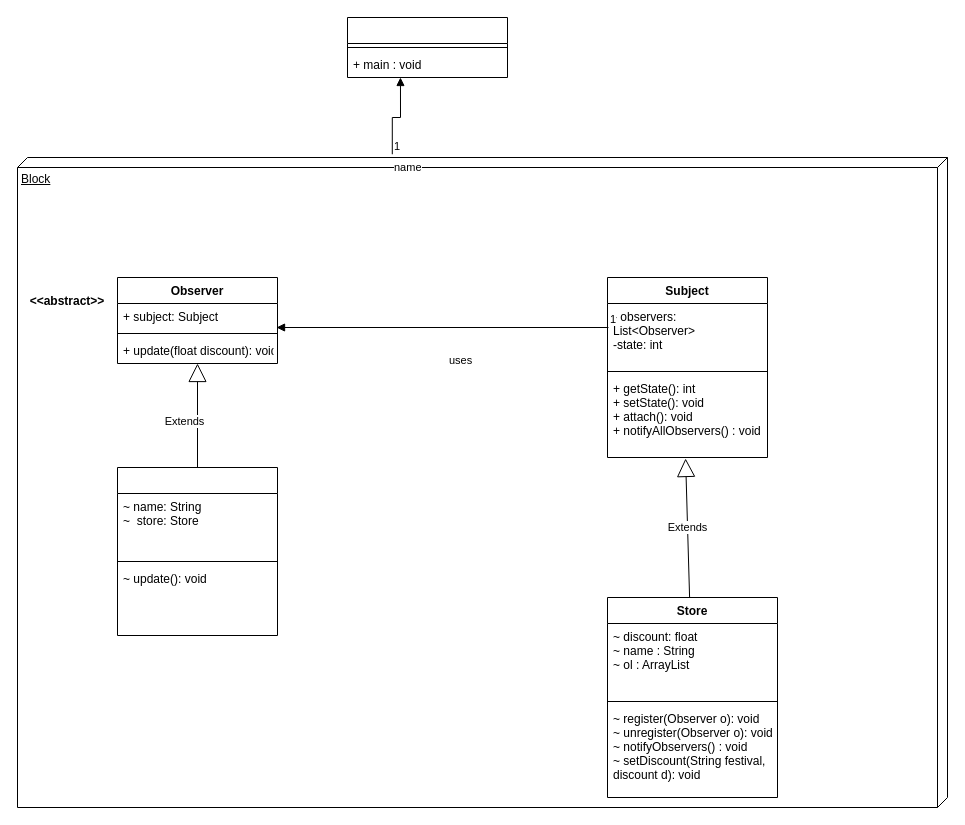
Image size: 965x825. Some labels were removed from this diagram. Each missing label, with the box of its shape:
Customer: (116, 466, 278, 636)
ObserverpatternDemo: (346, 16, 508, 78)
